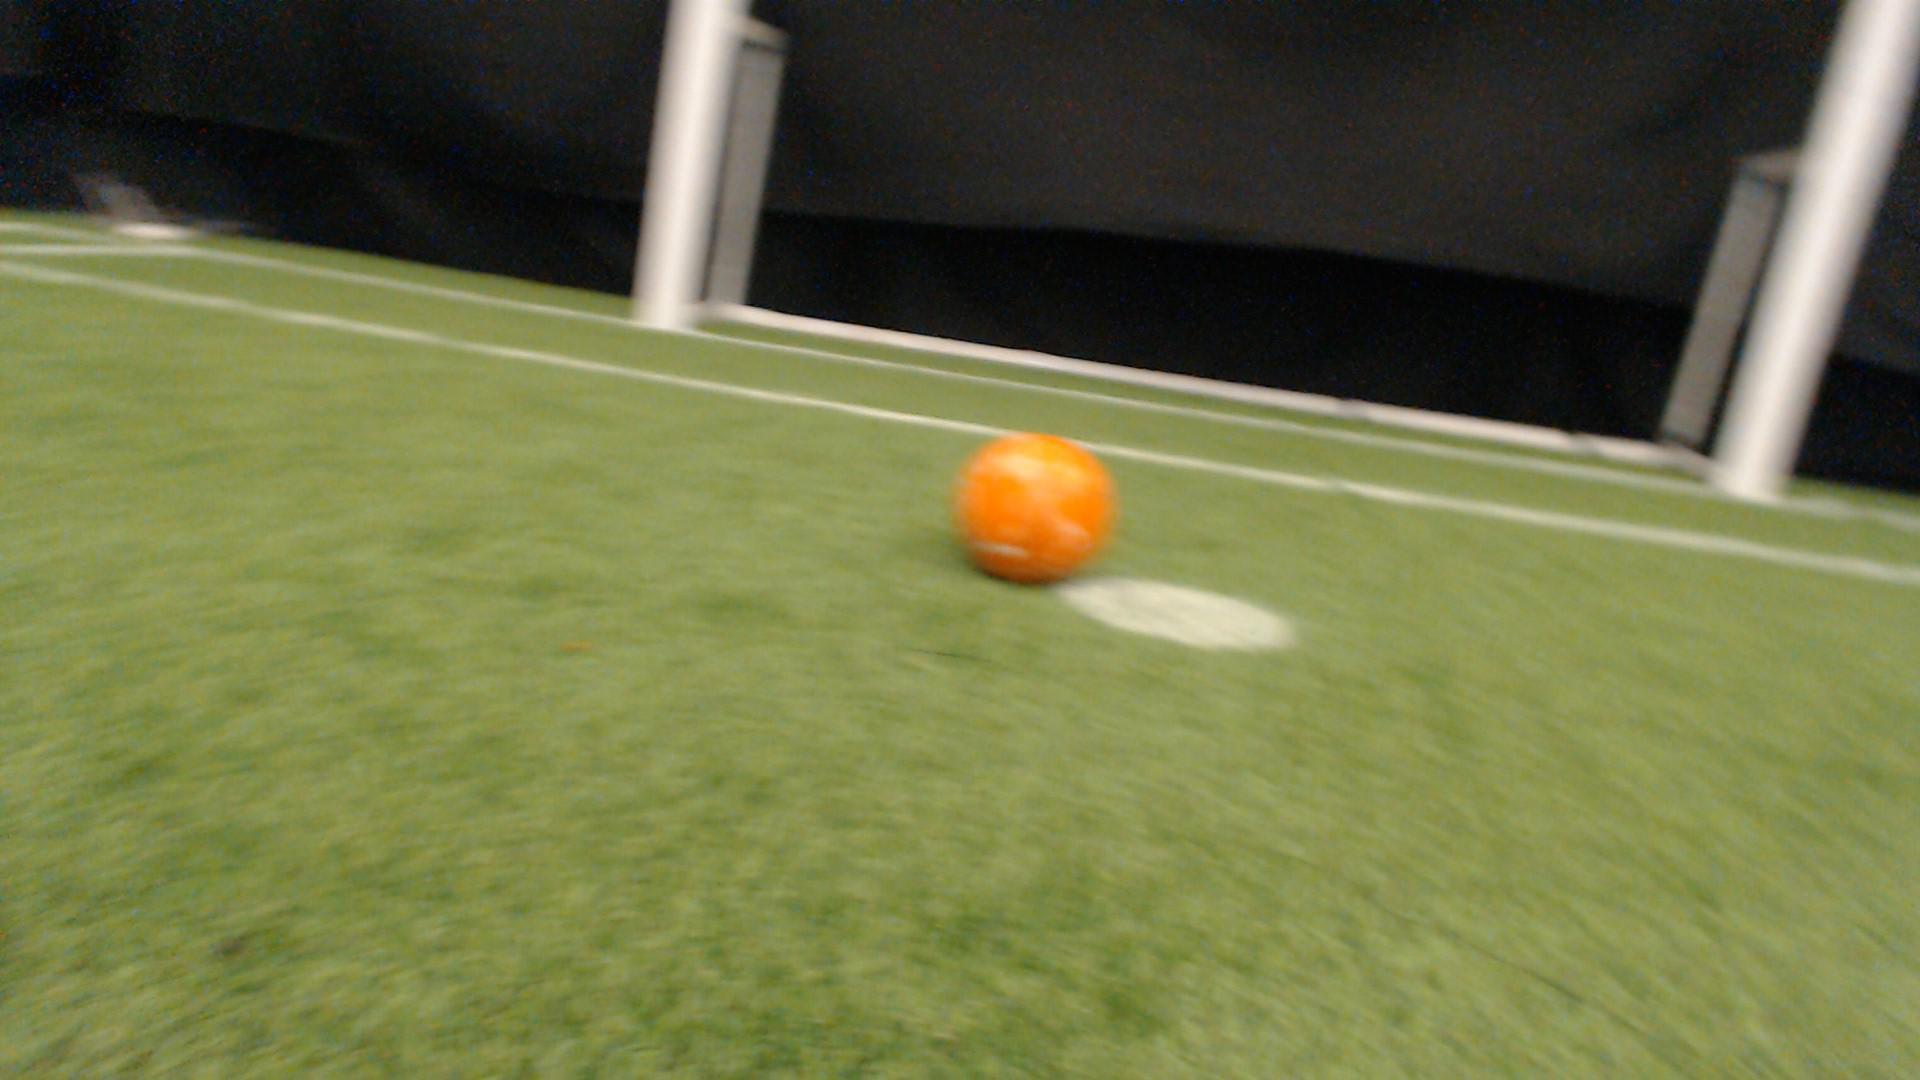bola: (939, 418, 1134, 591)
